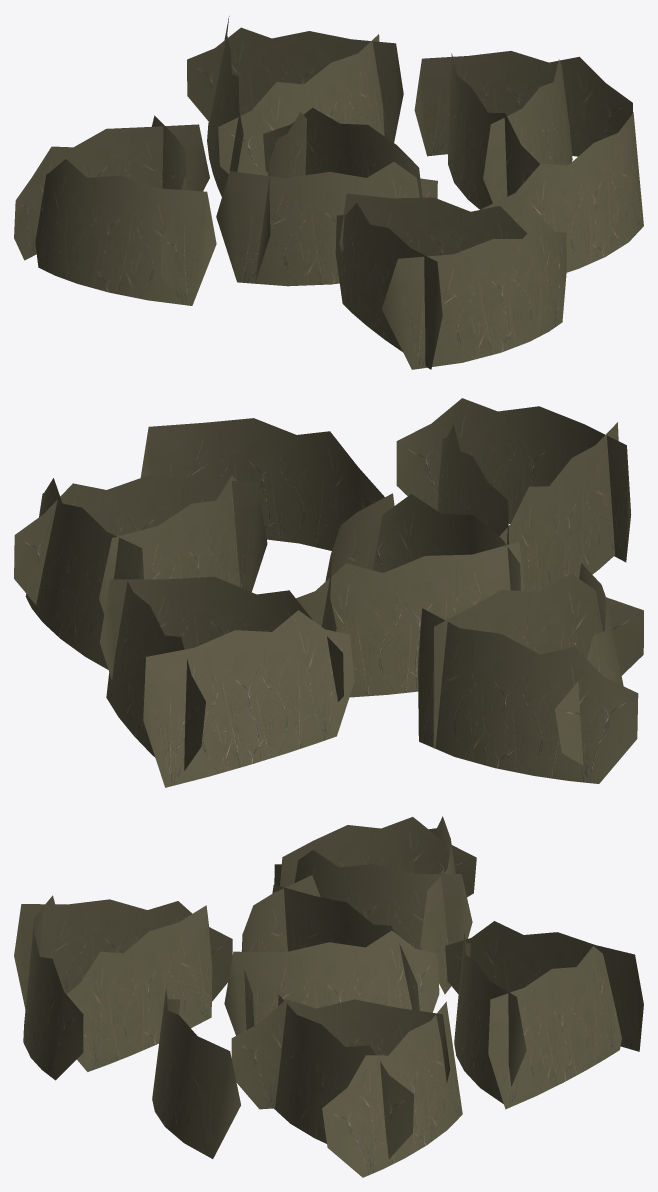
File: SM_Grass_Dry01.fbx
3 views of the same model, one above another, from view 1: azimuth 30°, elevation 25°; view 2: azimuth 150°, elevation 25°; view 3: azimuth 270°, elevation 25° (orthographic). The views are drawn at different scales.
Visible parts, largest first — view 1: Grass_Dry01_LOD0; view 2: Grass_Dry01_LOD0; view 3: Grass_Dry01_LOD0.
Boxes of the visible parts, x1,y1,x2,y2 form: Grass_Dry01_LOD0: (14,16,643,369); Grass_Dry01_LOD0: (14,398,643,787); Grass_Dry01_LOD0: (14,816,643,1177).
Size of what is drawn, in the model's own units: 342 by 356 by 69.02.
